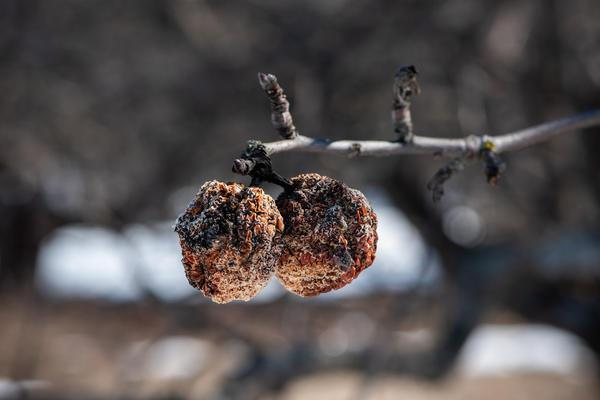mummified_fruits: (174, 181, 283, 302), (276, 173, 377, 296)
